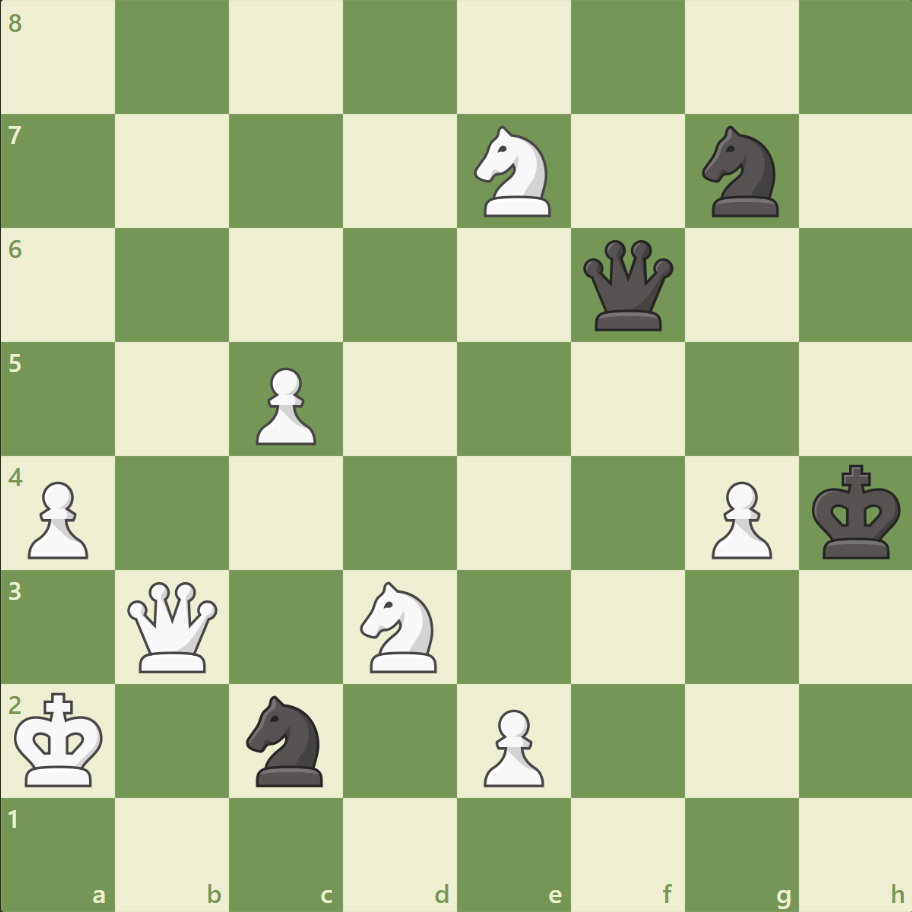K: (11, 685, 111, 793)
N: (351, 575, 449, 677), (465, 121, 562, 223)
P: (247, 359, 322, 450), (20, 473, 95, 564), (701, 473, 776, 564), (474, 700, 549, 791)
Q: (124, 576, 223, 676)
k: (806, 458, 906, 566)
n: (238, 688, 335, 791), (692, 121, 789, 223)
q: (578, 236, 677, 335)
